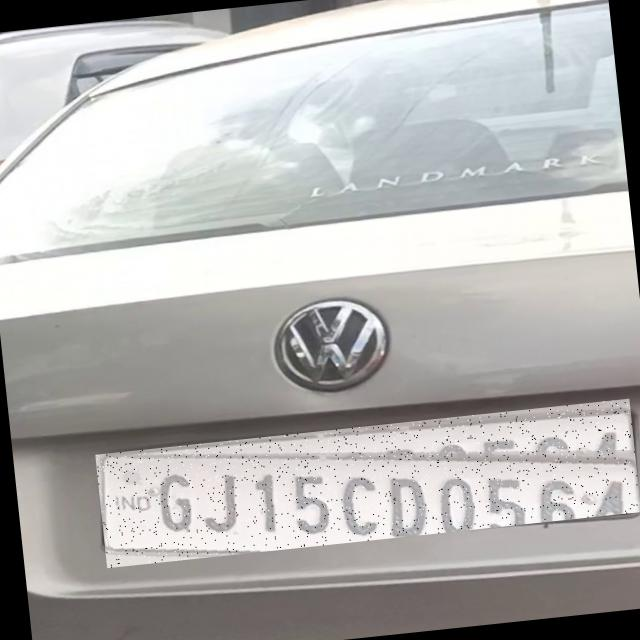Plate: (96, 399, 640, 569)
